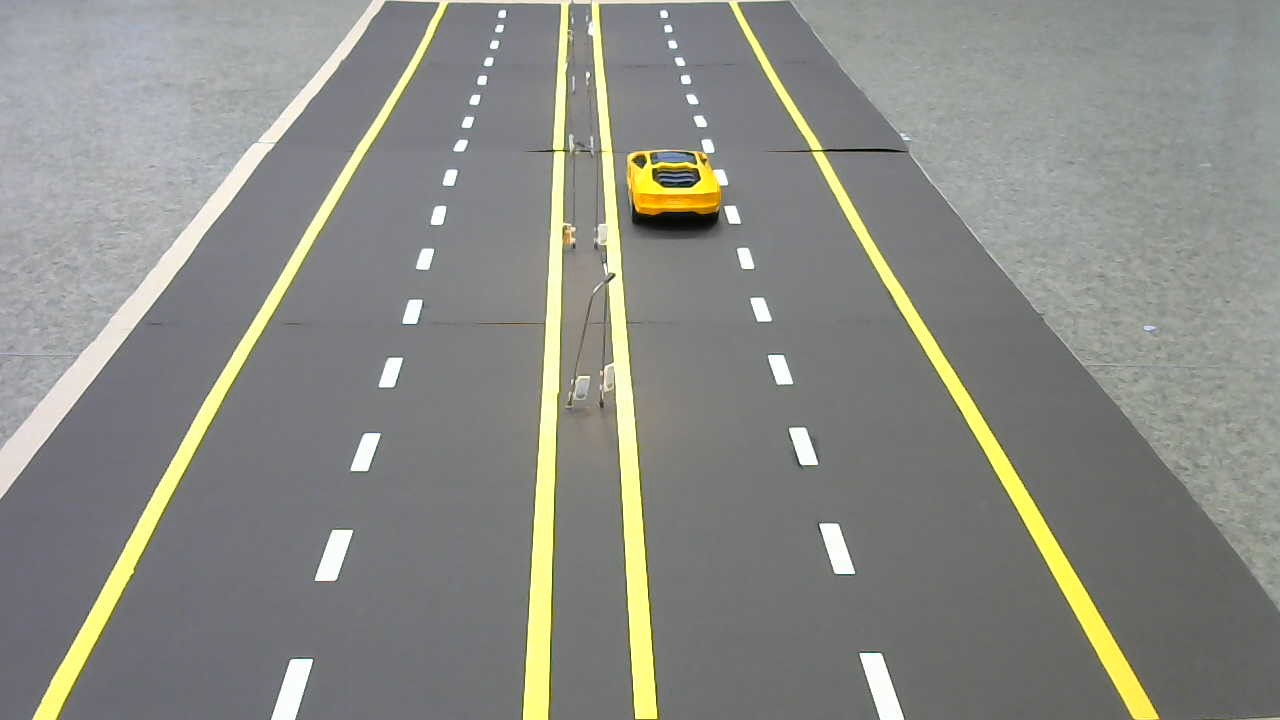back_car: (620, 145, 730, 230)
